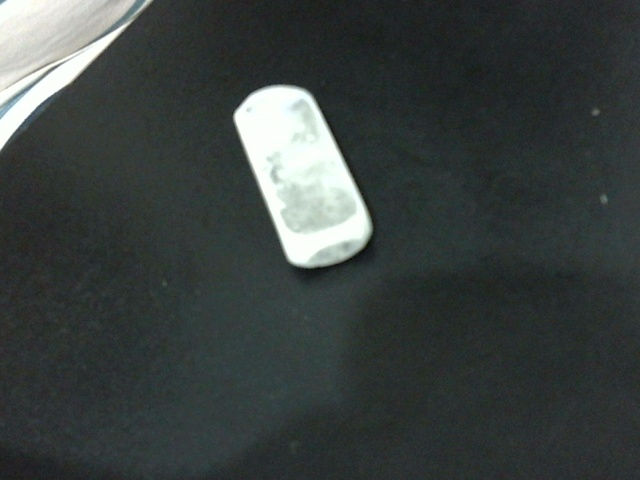eraser: (200, 82, 411, 265)
